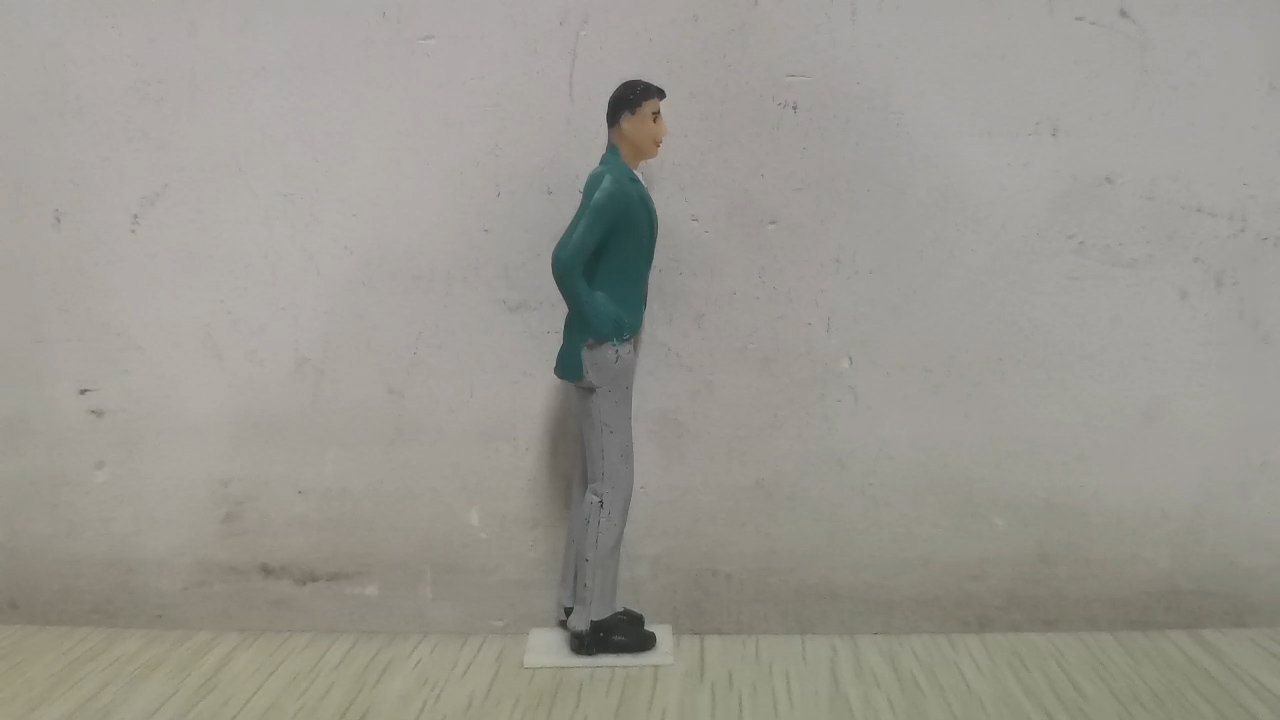person: (550, 78, 671, 657)
